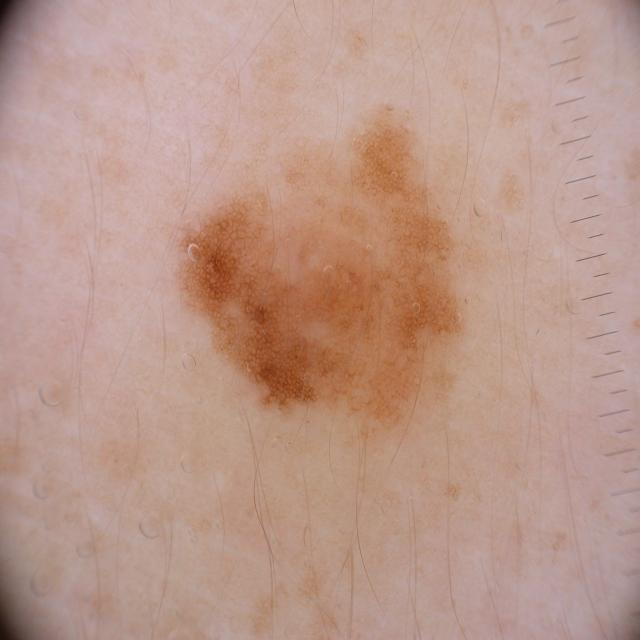Benign: (170, 106, 482, 426)
